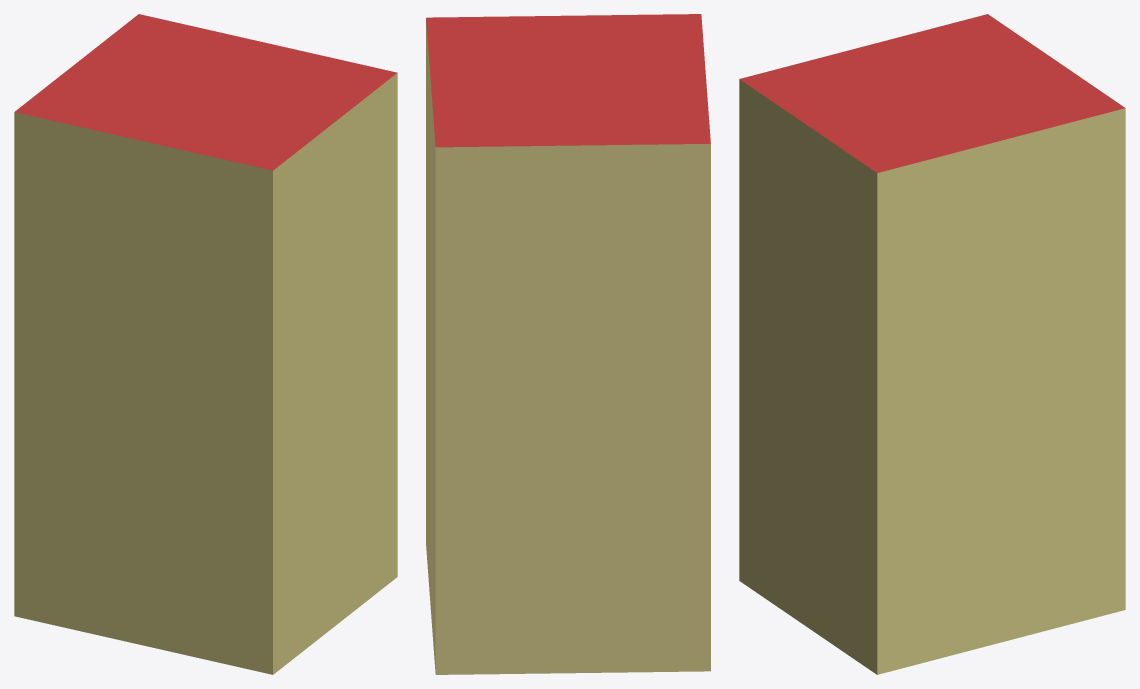
The picture shows the model from 3 angles, left to right: view 1: azimuth 30°, elevation 25°; view 2: azimuth 150°, elevation 25°; view 3: azimuth 270°, elevation 25°; orthographic projection. The views are drawn at different scales.
Bounding box in the file's own units: 3.78 × 3.88 × 5.56.
